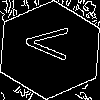V: (25, 25, 78, 62)
